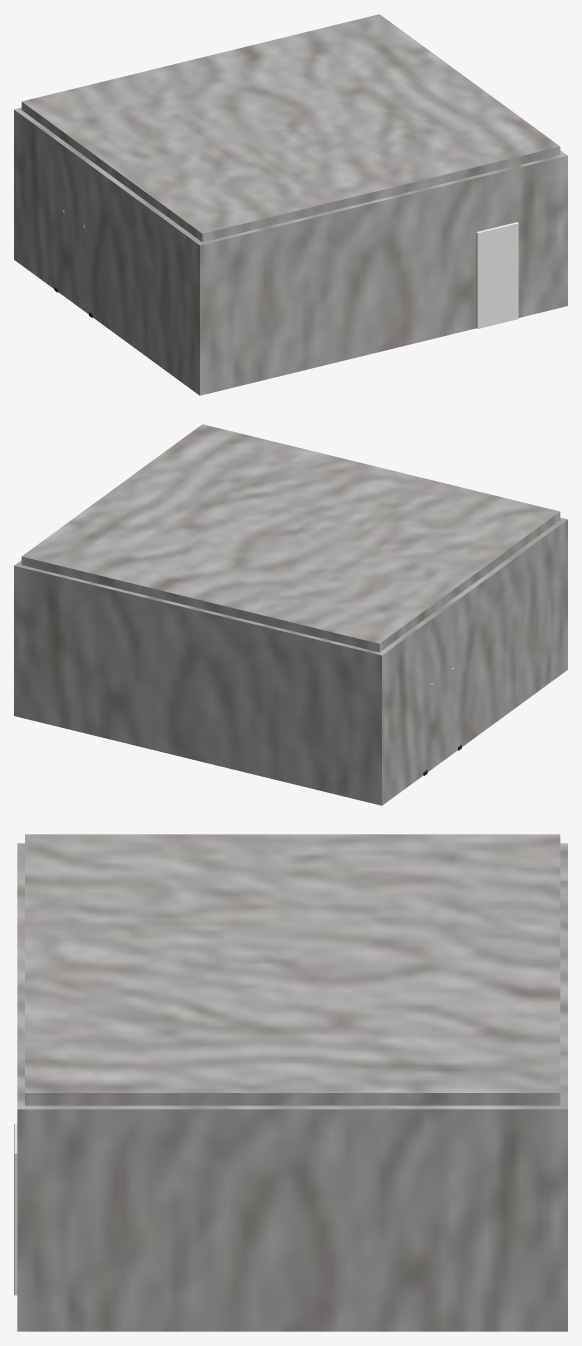
3 renders of one model, top to bottom at view 1: azimuth 30°, elevation 25°; view 2: azimuth 150°, elevation 25°; view 3: azimuth 270°, elevation 25°, orthographic. The views are drawn at different scales.
Visible parts, largest first — view 1: Walls, Door; view 2: Walls; view 3: Walls, Door.
Part boxes in pixels (left/top/right/bottom): Walls: left=14, top=14, right=567, bottom=395; Door: left=476, top=222, right=518, bottom=328; Walls: left=14, top=424, right=567, bottom=805; Walls: left=17, top=834, right=567, bottom=1331; Door: left=14, top=1123, right=17, bottom=1295.
Size of the model in its own units: 802 by 330 by 704.
